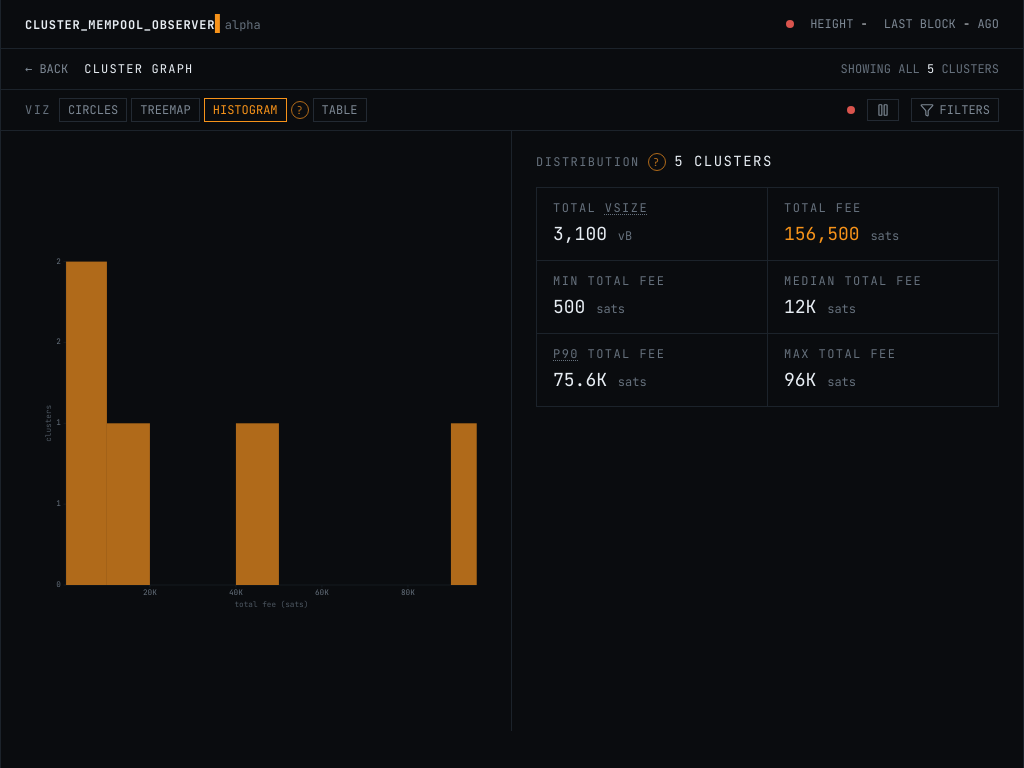
it: Clusters page: the URL restores the viz config › opens on the viz, metrics and bin count the search params name
This screenshot has width=1024, height=768.
Expected: the text "CLUSTER GRAPH" is shown, [84,61,193,77]
Click the button named "Toggle filters" at (955, 110), box [911,98,999,122]
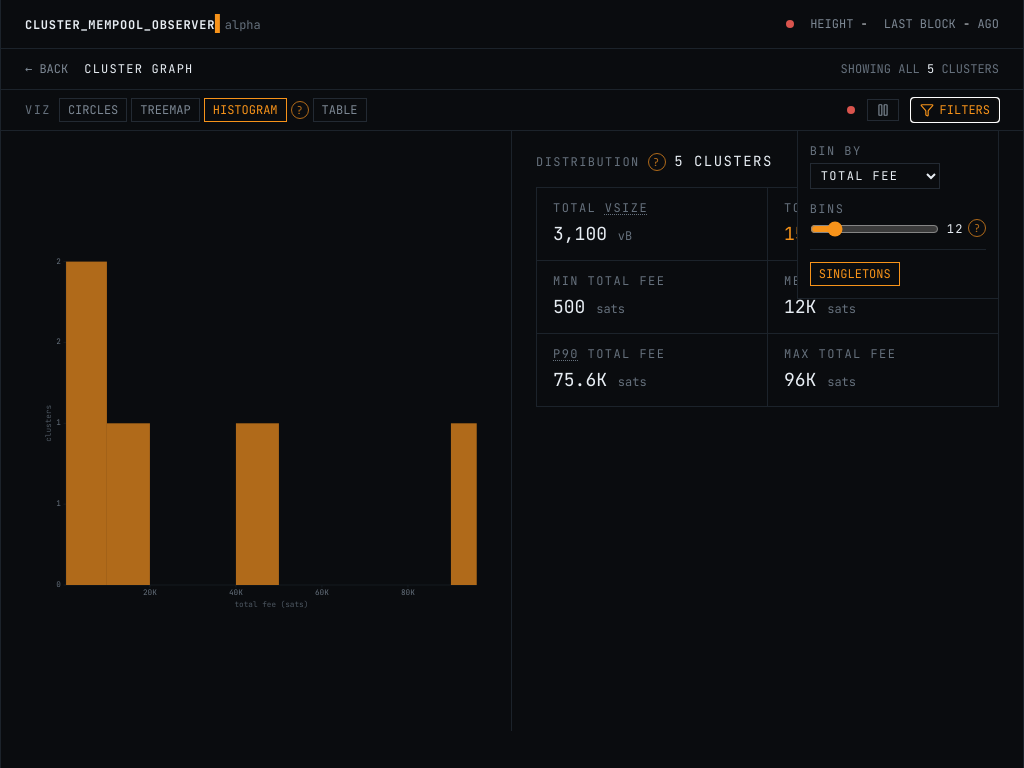
Result: the dropdown labelled "BIN BY" shows "TOTAL FEE" at [810,163,940,189]
Result: the slider labelled "BINS 12" holds "12" at [810,221,939,237]
